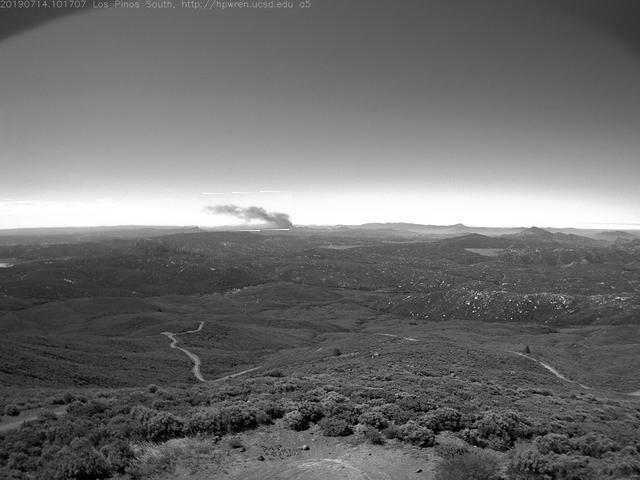smoke: (200, 193, 294, 233)
